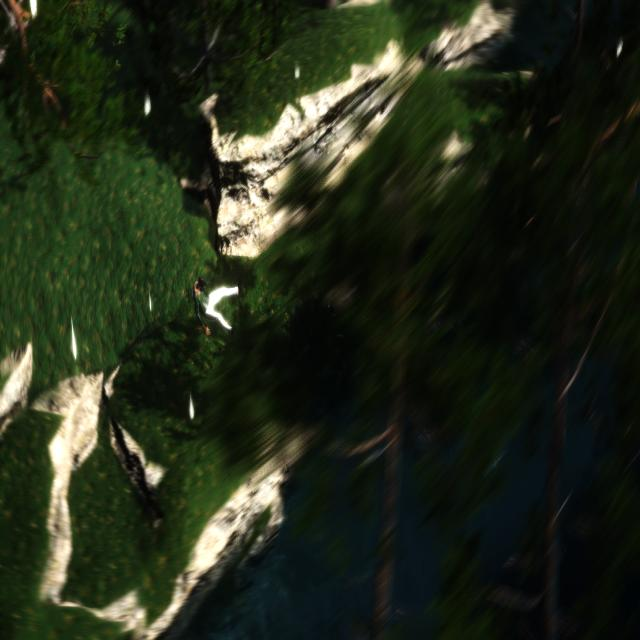Human: (190, 274, 246, 338)
